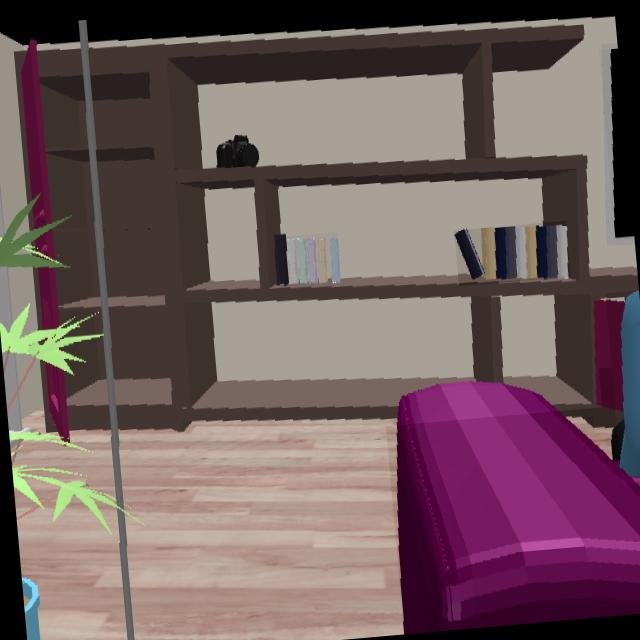book: (454, 226, 568, 281), (278, 236, 340, 285)
bookshelf: (18, 23, 602, 440)
monitor: (606, 49, 634, 238)
person: (619, 291, 640, 484)
sofa: (395, 382, 640, 634)
